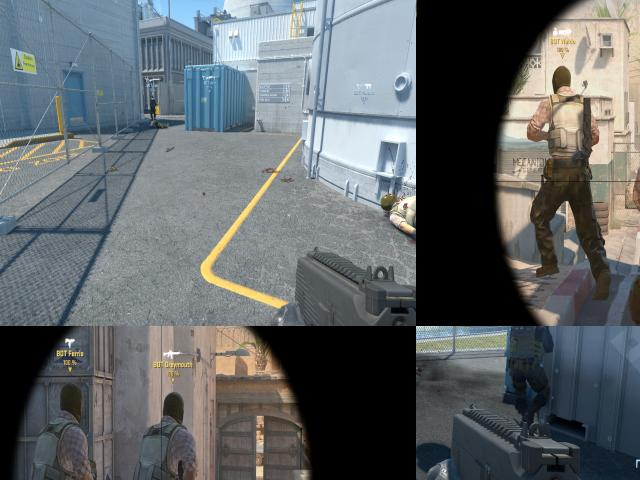Bomb: (107, 162, 121, 177)
CT: (510, 326, 550, 426), (150, 96, 156, 117)
CT-Head: (150, 96, 154, 99)
Dead: (374, 183, 416, 257), (150, 120, 169, 129)
T: (543, 65, 588, 267), (36, 382, 97, 480), (139, 394, 193, 480)
T-Head: (59, 382, 84, 421), (162, 392, 186, 420), (551, 66, 573, 95)
